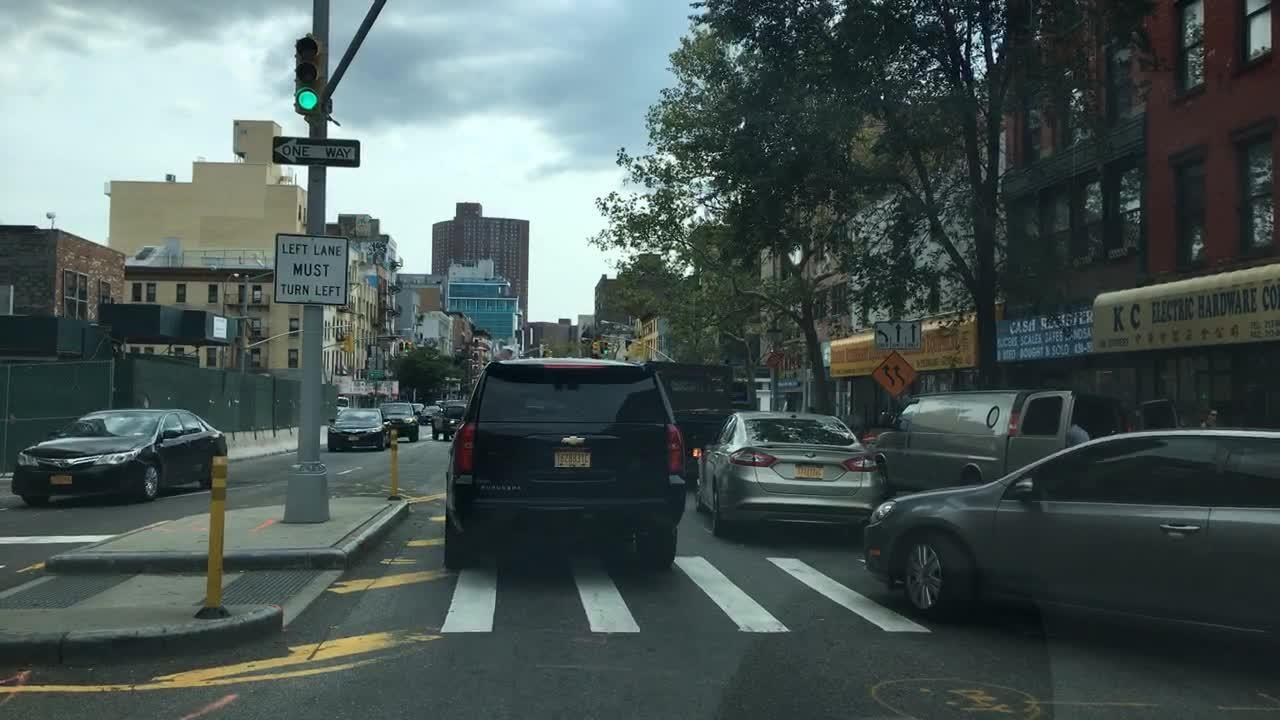chevrolet: (556, 432, 590, 449)
